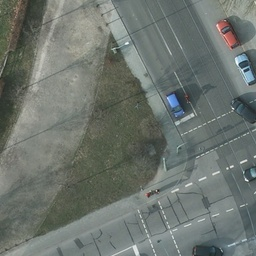car: (229, 95, 256, 125), (216, 17, 240, 48), (235, 52, 255, 87), (165, 91, 186, 119), (192, 243, 223, 256)
